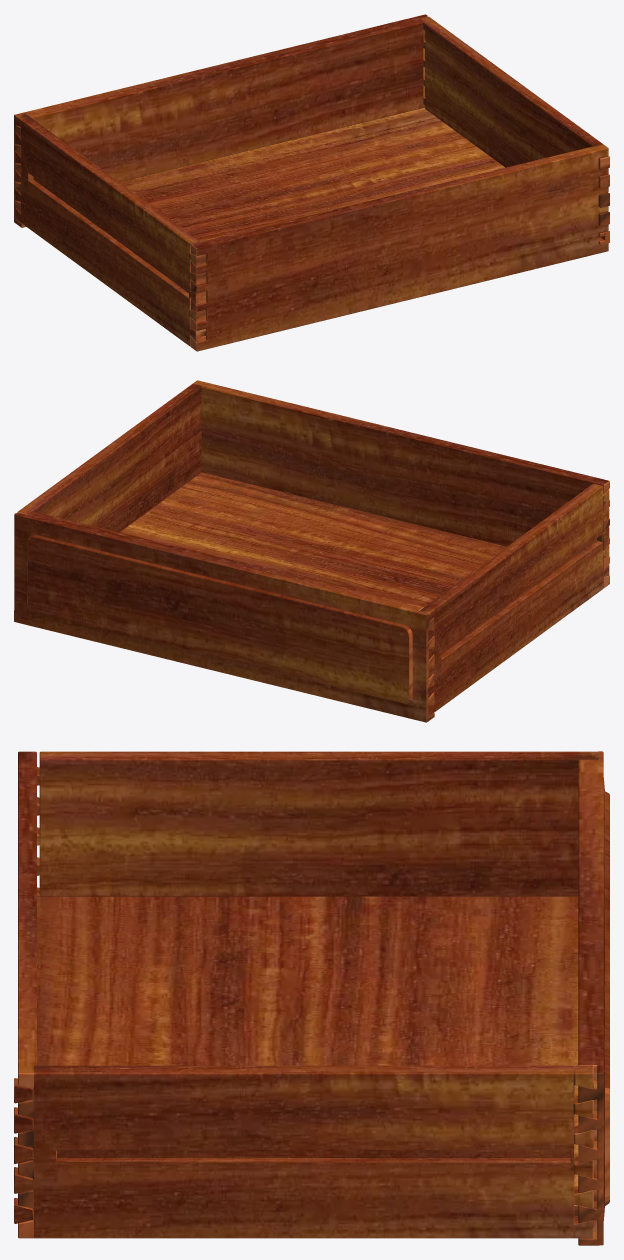
File: SJ_J_H_choudiban_01.FBX
The picture shows the model from 3 angles, top to bottom: view 1: azimuth 30°, elevation 25°; view 2: azimuth 150°, elevation 25°; view 3: azimuth 270°, elevation 25°; orthographic projection. The views are drawn at different scales.
Visible parts, largest first — view 1: SJ_J_H_choudiban_01; view 2: SJ_J_H_choudiban_01; view 3: SJ_J_H_choudiban_01.
Boxes of the visible parts, x1,y1,x2,y2 form: SJ_J_H_choudiban_01: [14, 14, 609, 351]; SJ_J_H_choudiban_01: [14, 380, 609, 722]; SJ_J_H_choudiban_01: [14, 751, 609, 1245].
Bounding box in the file's own units: 48.01 × 12.01 × 37.55.
